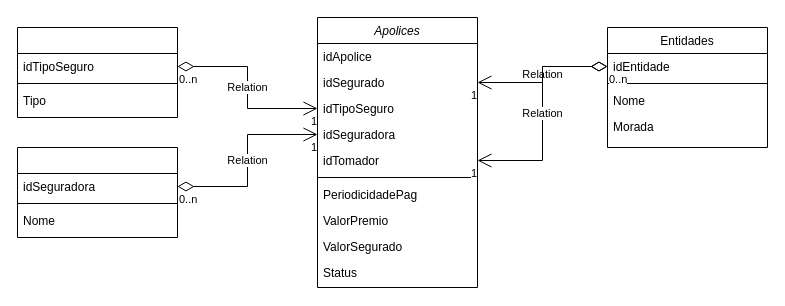
Some shapes in this 785 by 306 pixel diagram are drawn without their labels. Each missing label, with the box of its shape:
Seguradoras: (16, 146, 178, 238)
Tipos Seguro: (16, 26, 178, 118)
